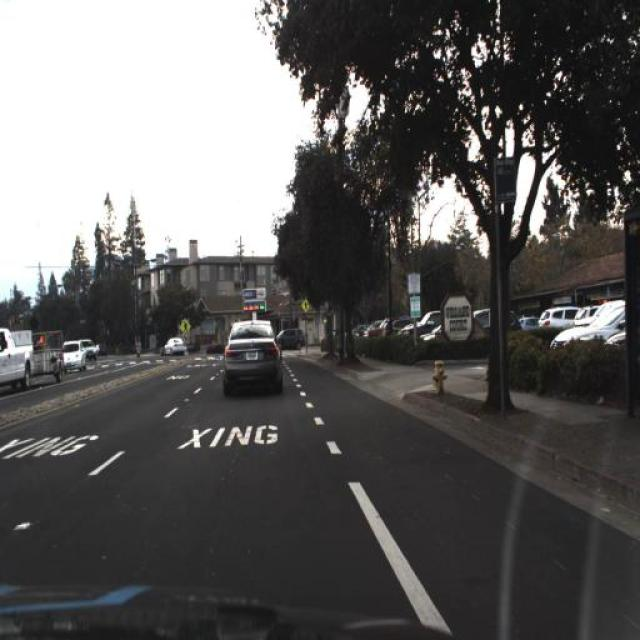car: (546, 303, 640, 361), (220, 316, 282, 396), (0, 324, 66, 388), (441, 300, 522, 344), (532, 290, 584, 330), (400, 302, 440, 342), (58, 332, 88, 380), (276, 322, 310, 362), (163, 324, 191, 360), (79, 329, 102, 367), (162, 330, 186, 366)
